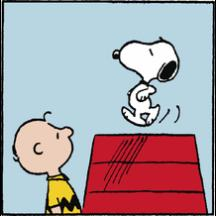charlie: (11, 110, 82, 216)
snoopy: (112, 35, 180, 127)
